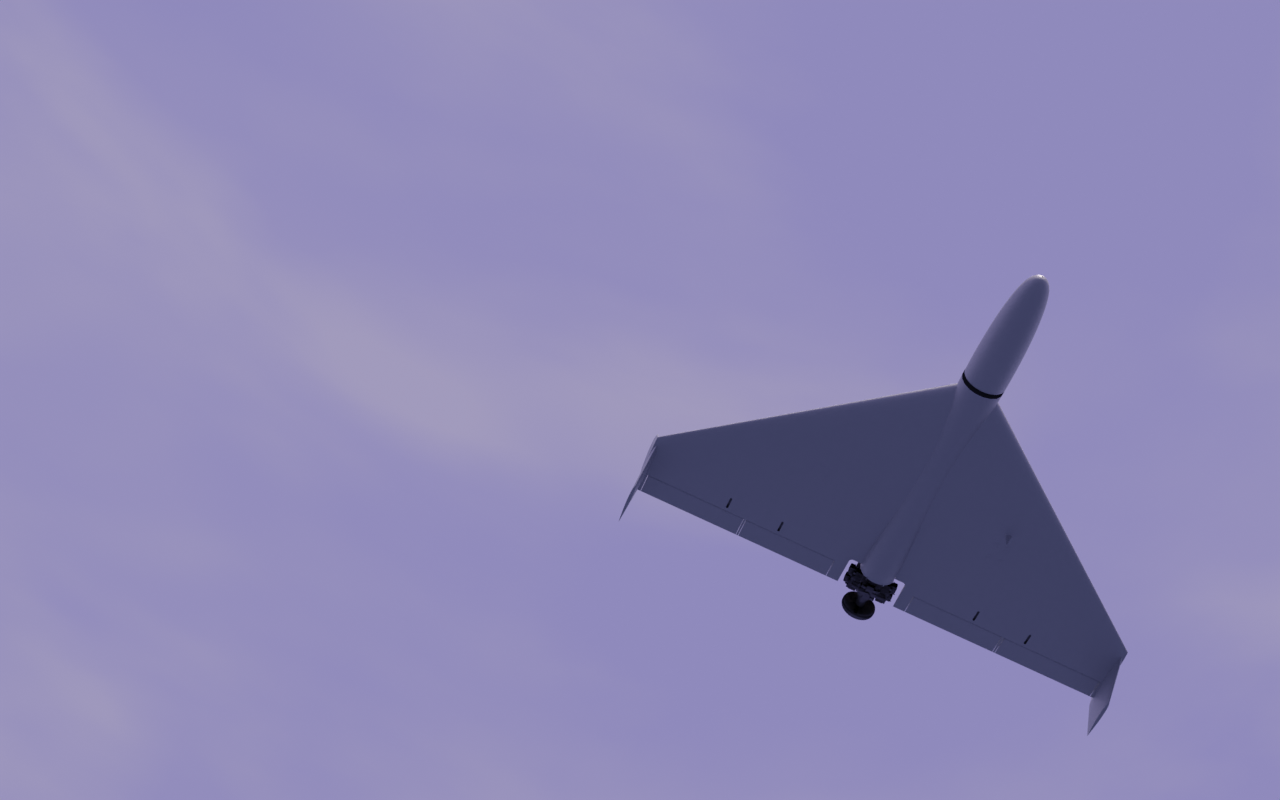shahed: (619, 275, 1130, 738)
